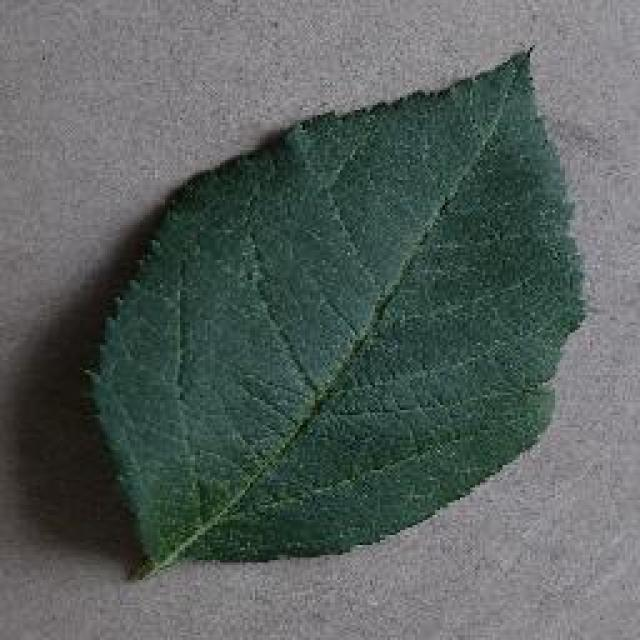apple healthy: (80, 42, 588, 580)
